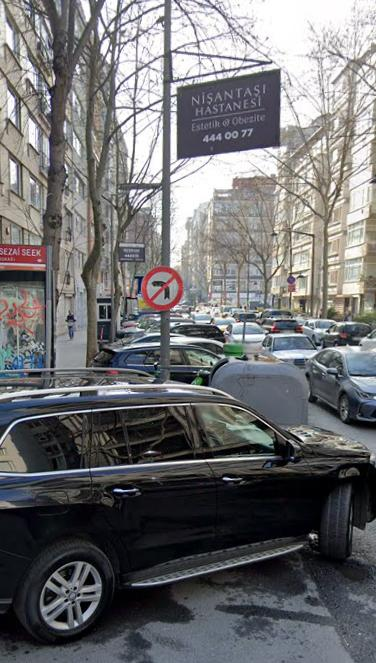leftturnsareforbidden: (144, 267, 185, 307)
